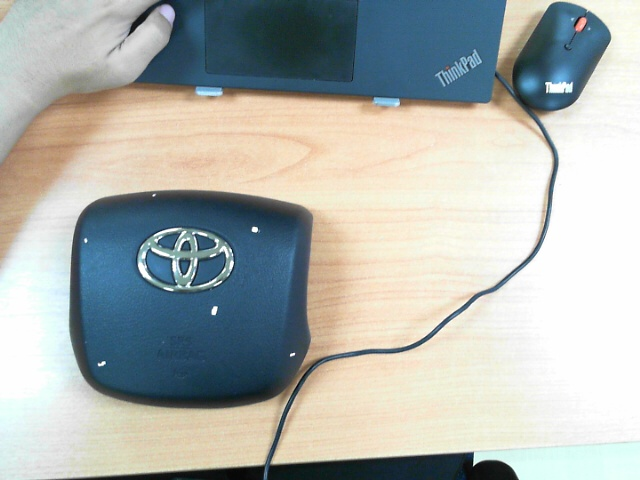Airbag: (210, 305, 218, 316), (97, 360, 106, 367), (251, 226, 259, 232), (289, 352, 296, 358), (83, 237, 88, 243), (151, 193, 157, 198)
